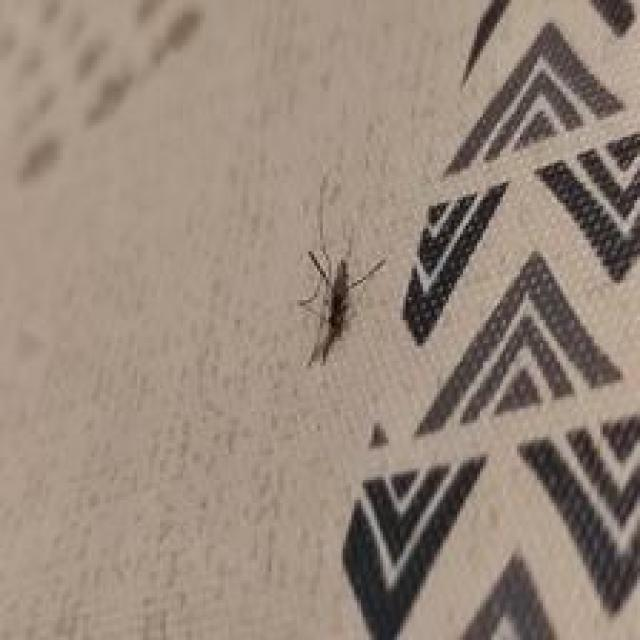Aedes albopictus: (325, 0, 640, 640)
